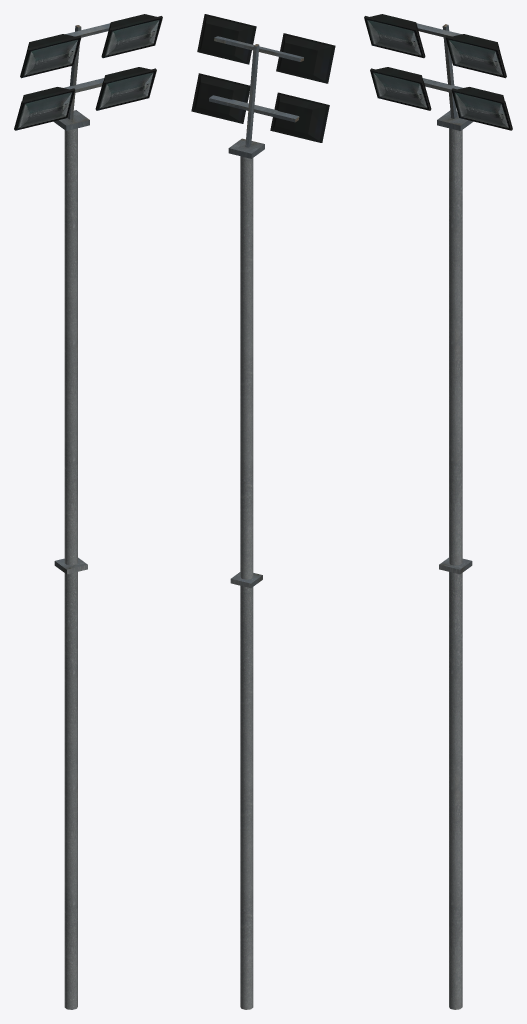
Rendered from Light-01.fbx.
3 renders of one model, left to right at view 1: azimuth 30°, elevation 25°; view 2: azimuth 150°, elevation 25°; view 3: azimuth 330°, elevation 25°, orthographic. The views are drawn at different scales.
Visible parts, largest first — view 1: Light-01; view 2: Light-01; view 3: Light-01.
Part boxes in pixels (<box>): Light-01: <box>14,14,162,1009</box>; Light-01: <box>191,14,335,1009</box>; Light-01: <box>364,14,512,1009</box>.
Bounding box in the file's own units: 205 × 1451 × 83.45.
